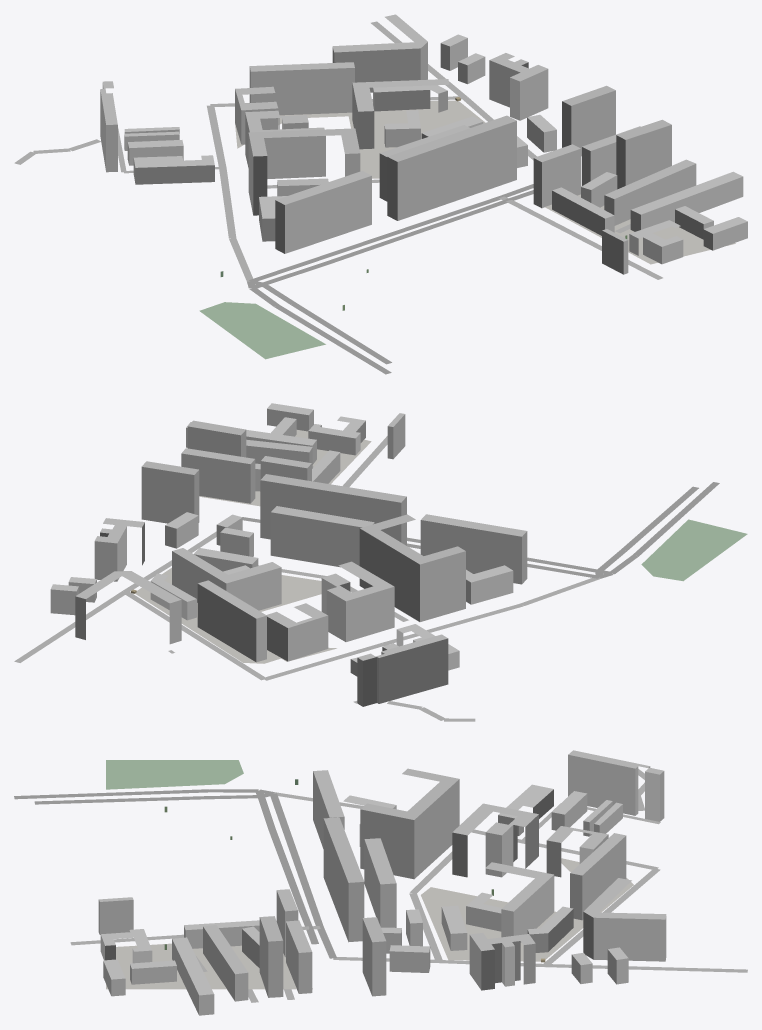
The picture shows the model from 3 angles, top to bottom: view 1: azimuth 30°, elevation 25°; view 2: azimuth 150°, elevation 25°; view 3: azimuth 270°, elevation 25°; orthographic projection. The views are drawn at different scales.
Size of the model in its own units: 557 by 61.72 by 674.
